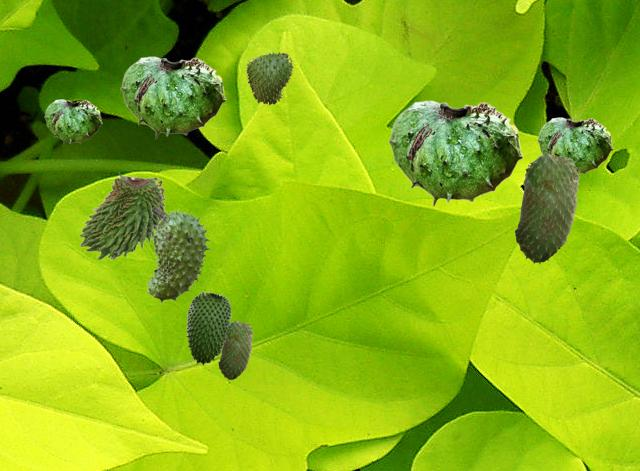guyabano: (388, 100, 522, 206), (120, 56, 225, 138), (78, 172, 165, 259), (514, 152, 579, 263), (145, 207, 211, 303), (537, 117, 612, 175), (186, 291, 230, 364), (44, 99, 101, 144), (246, 51, 293, 105), (218, 320, 252, 379)
